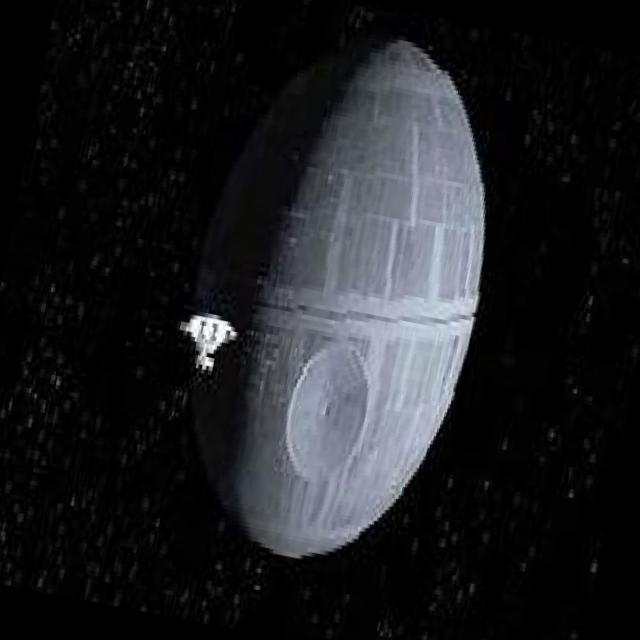Death Star: (144, 11, 525, 592)
